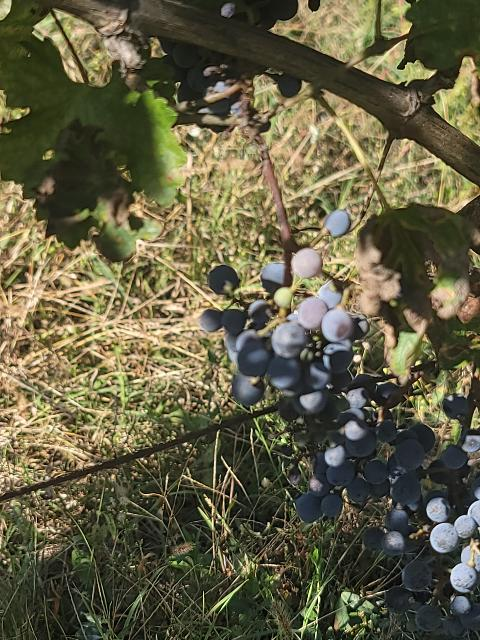grapes: (200, 280, 402, 521), (291, 248, 322, 280)
